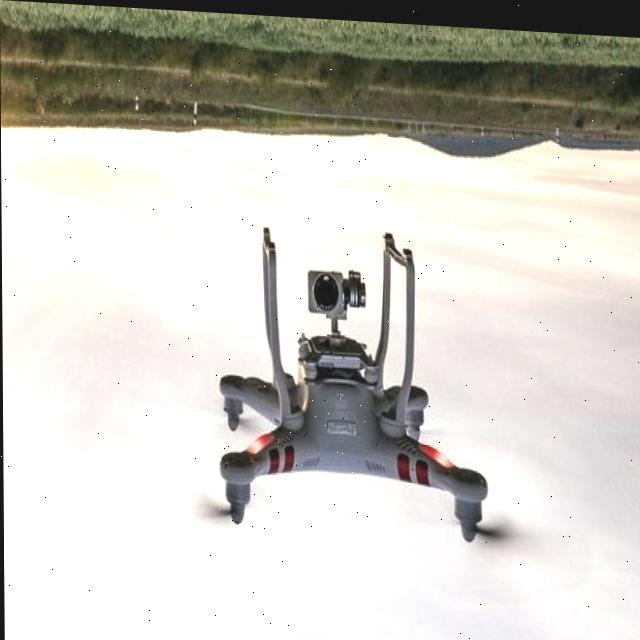drone: (151, 211, 525, 560)
